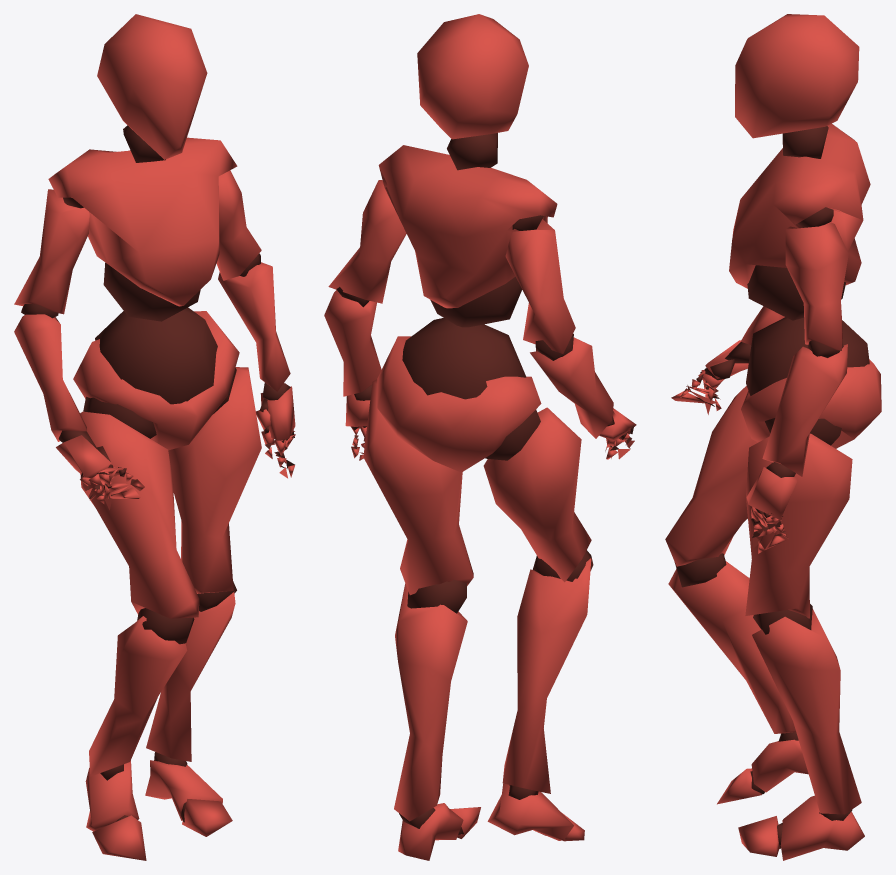
3 renders of one model, left to right at view 1: azimuth 30°, elevation 25°; view 2: azimuth 150°, elevation 25°; view 3: azimuth 270°, elevation 25°, orthographic. The views are drawn at different scales.
Parts seen in each view (by area): view 1: Beta_Surface; view 2: Beta_Surface; view 3: Beta_Surface.
Boxes of the visible parts, left/top/right/bottom form: Beta_Surface: left=14, top=14, right=295, bottom=860; Beta_Surface: left=324, top=14, right=636, bottom=860; Beta_Surface: left=665, top=14, right=881, bottom=860.
Size of the model in its own units: 4.72 by 14.46 by 3.48.
